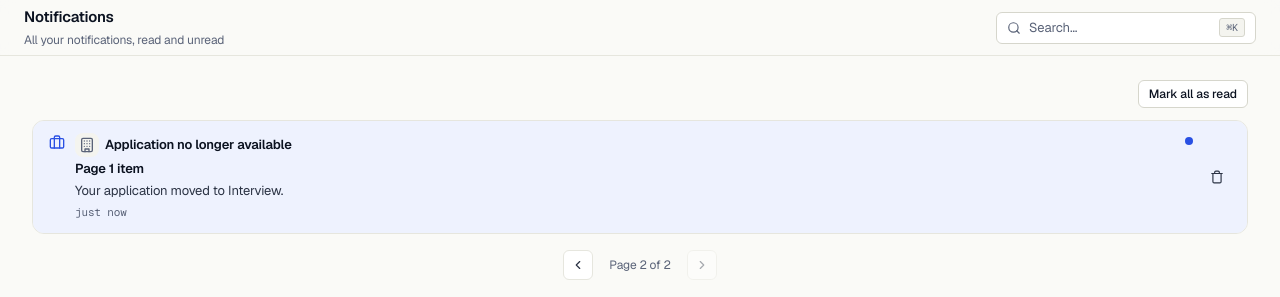
Scenario: TC-NOTIF-PAGE-10..15: numbered pager › TC-NOTIF-PAGE-13: clicking Prev re-fetches the previous page
Expected: the text "Page 1 item" is shown, [75,160,144,177]
Click the button with test id "notifications-page-pager-prev": (578, 264) [563,250,593,280]
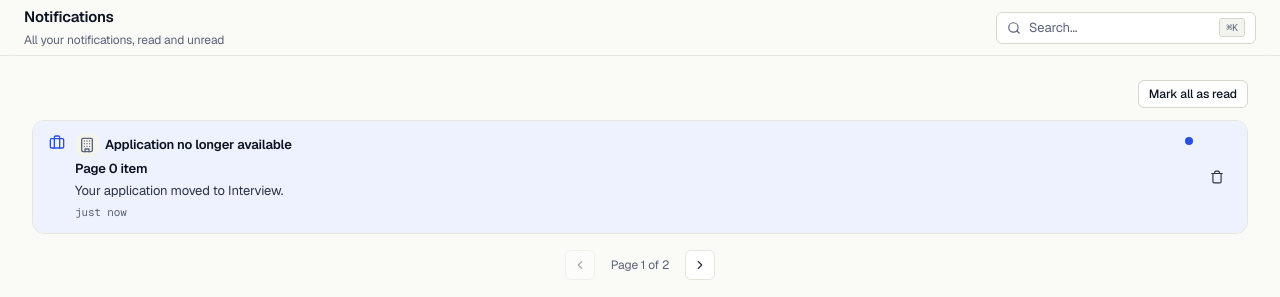
Expected: the text "Page 0 item" is shown, [75,160,147,177]
